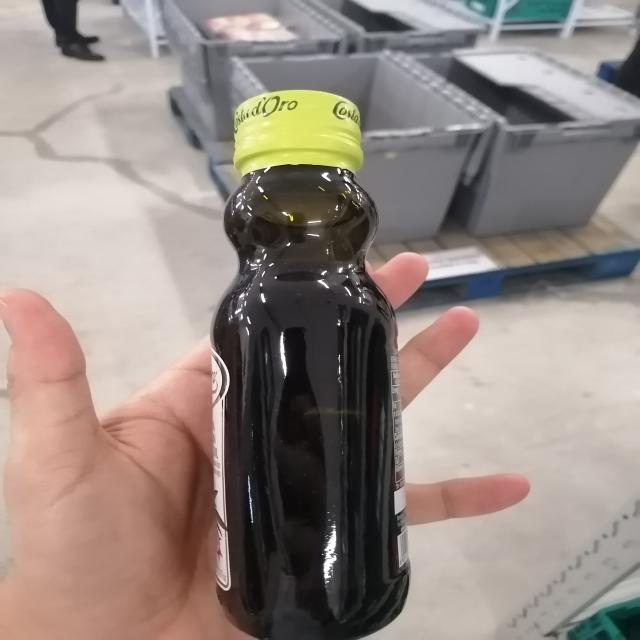object_name: (211, 95, 406, 625)
